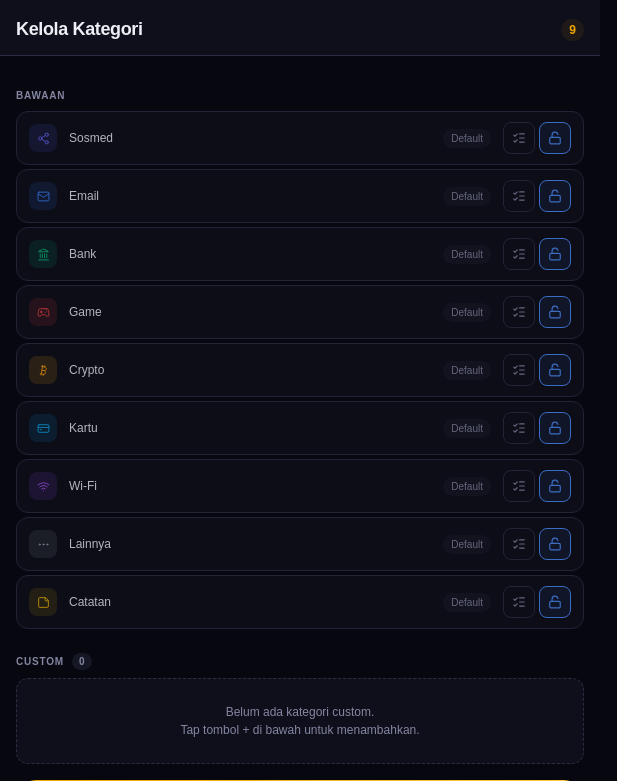
it: CategoryManager — Editor Field Kategori (v1.10.0) › membuka editor field kategori default menampilkan field bawaannya (mis. "Username")
Click the button named "Kelola field Sosmed" at (519, 138), box x1=503 y1=122 x2=535 y2=154
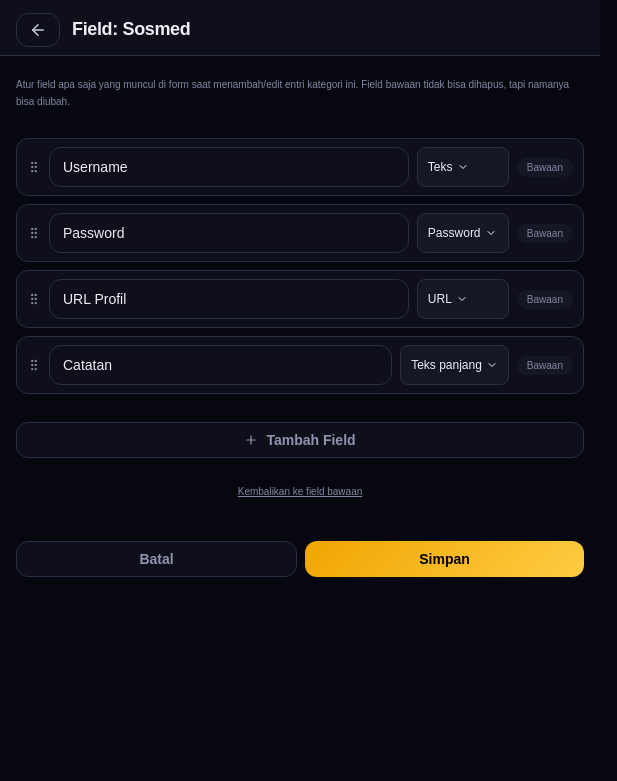
Now the heading "Field: Sosmed" is shown, box x1=72 y1=19 x2=190 y2=39
Now the 1st field showing "Username" is shown, box x1=49 y1=147 x2=409 y2=187
